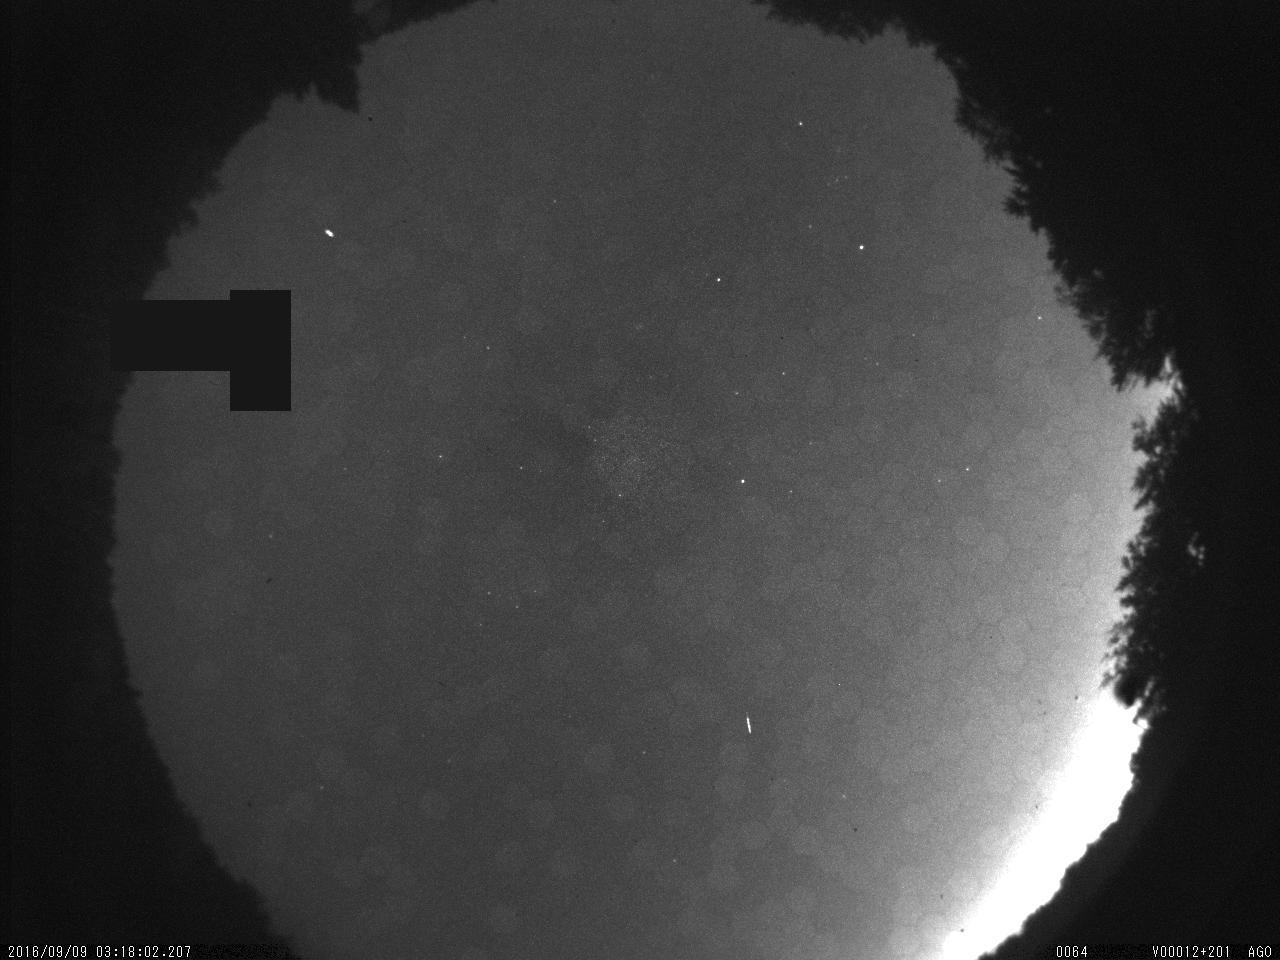meteor: (737, 710, 758, 743)
